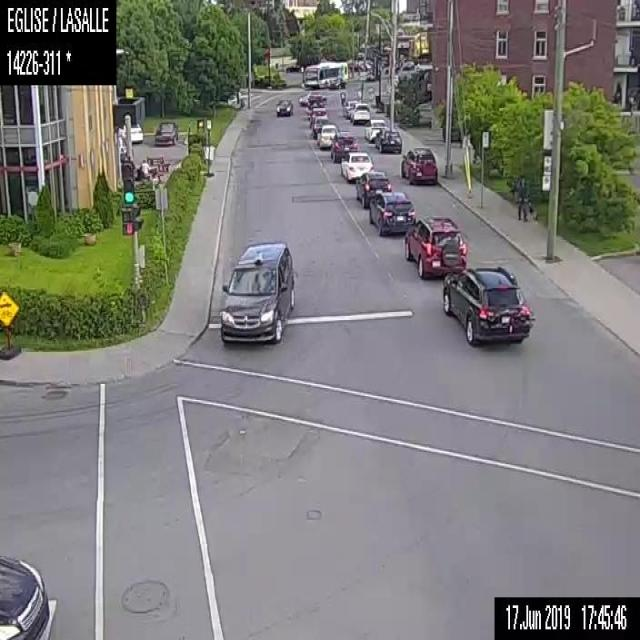bus: (301, 59, 349, 87)
pedestrian: (513, 175, 528, 224), (140, 157, 152, 180)
vehicle: (440, 262, 534, 351), (218, 240, 295, 343), (401, 212, 466, 280), (0, 554, 51, 638), (367, 186, 416, 238), (400, 144, 436, 184), (355, 171, 392, 208), (338, 152, 374, 180), (328, 131, 358, 161), (374, 127, 402, 153), (314, 124, 340, 150), (152, 120, 178, 146), (349, 102, 371, 126), (363, 118, 385, 142), (298, 89, 326, 107), (311, 115, 329, 139), (308, 107, 326, 128), (274, 97, 291, 116), (342, 99, 357, 118), (130, 124, 144, 144), (327, 76, 345, 89)
